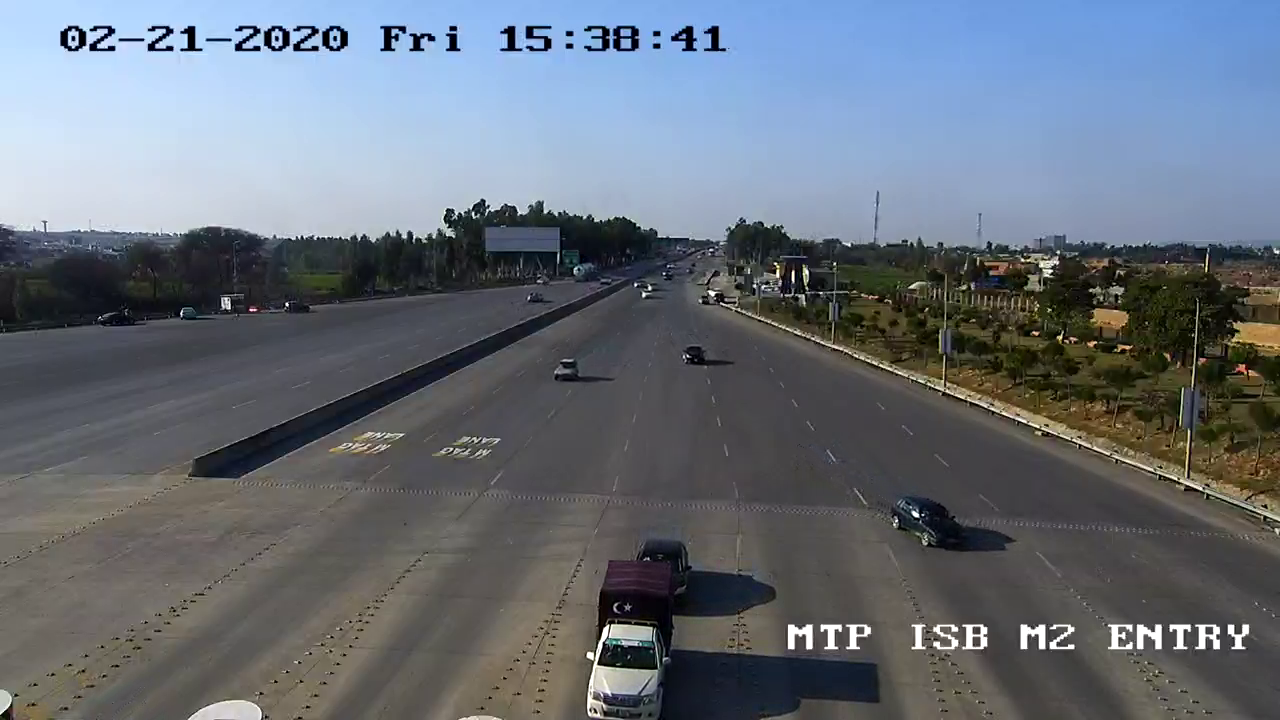f1: (868, 477, 982, 566)
f2: (577, 551, 682, 720)
